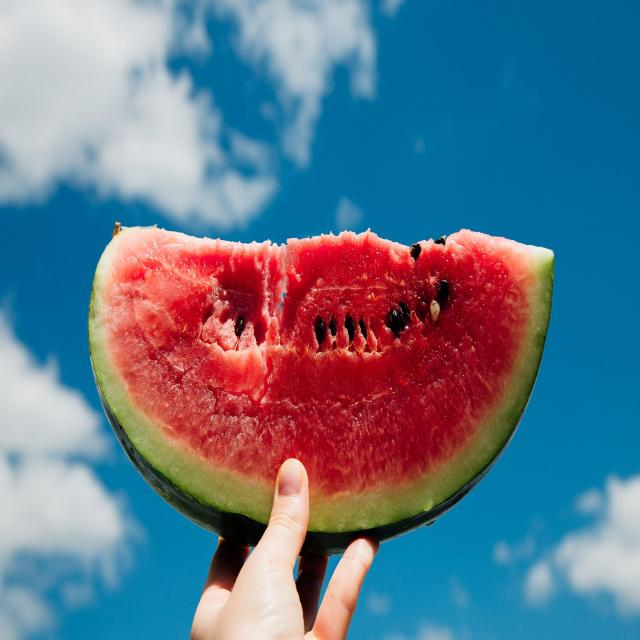watermelon: (87, 184, 568, 565)
